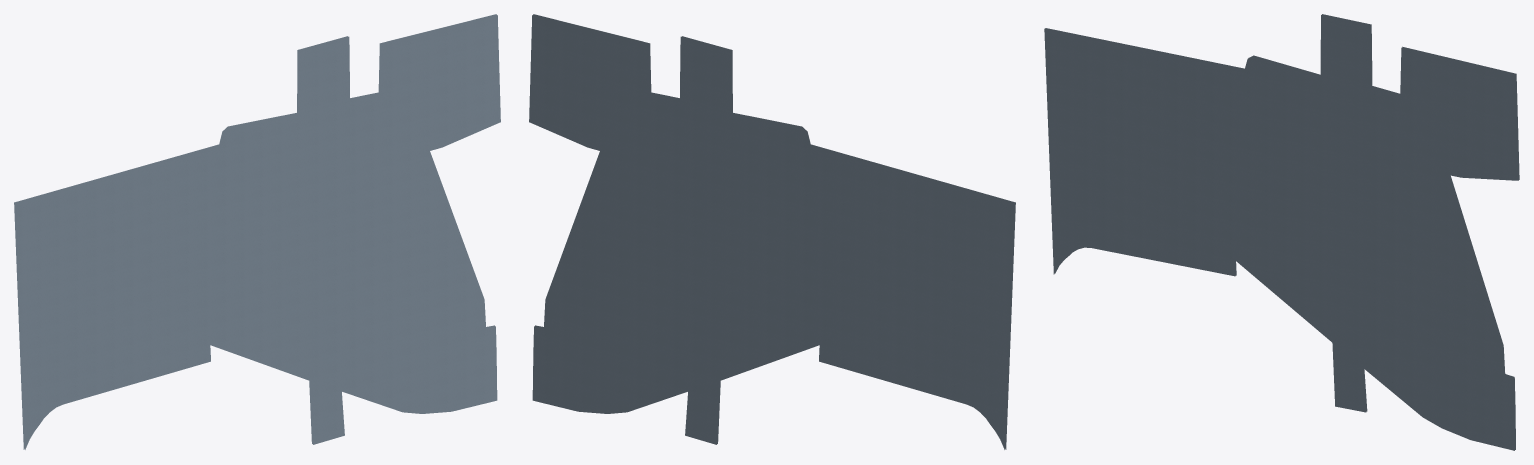
The model's file is floor_29.obj.
The picture shows the model from 3 angles, left to right: view 1: azimuth 30°, elevation 25°; view 2: azimuth 150°, elevation 25°; view 3: azimuth 330°, elevation 25°; orthographic projection. The views are drawn at different scales.
Visible parts, largest first — view 1: floor_29; view 2: floor_29; view 3: floor_29.
Boxes of the visible parts, bbox=[...] form: floor_29: bbox=[14, 14, 500, 449]; floor_29: bbox=[529, 14, 1015, 449]; floor_29: bbox=[1044, 14, 1519, 450].
Bounding box in the file's own units: 26.25 × 20.65 × 0.1.
1 material, 1 textured.
